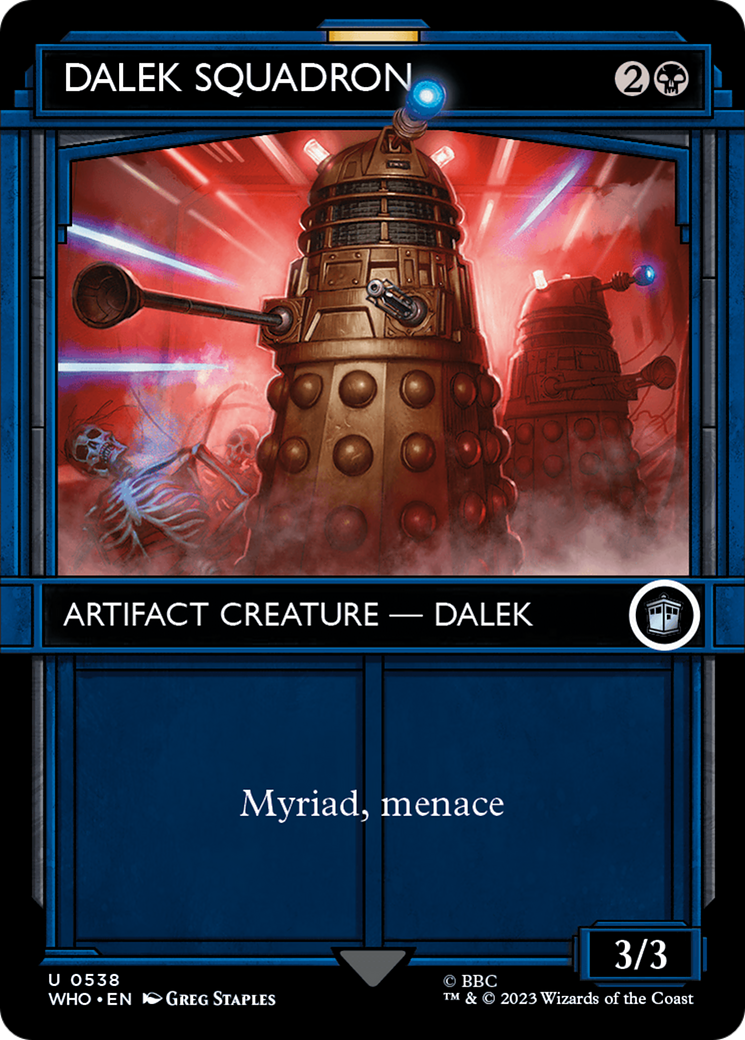dalek: (237, 131, 507, 591)
